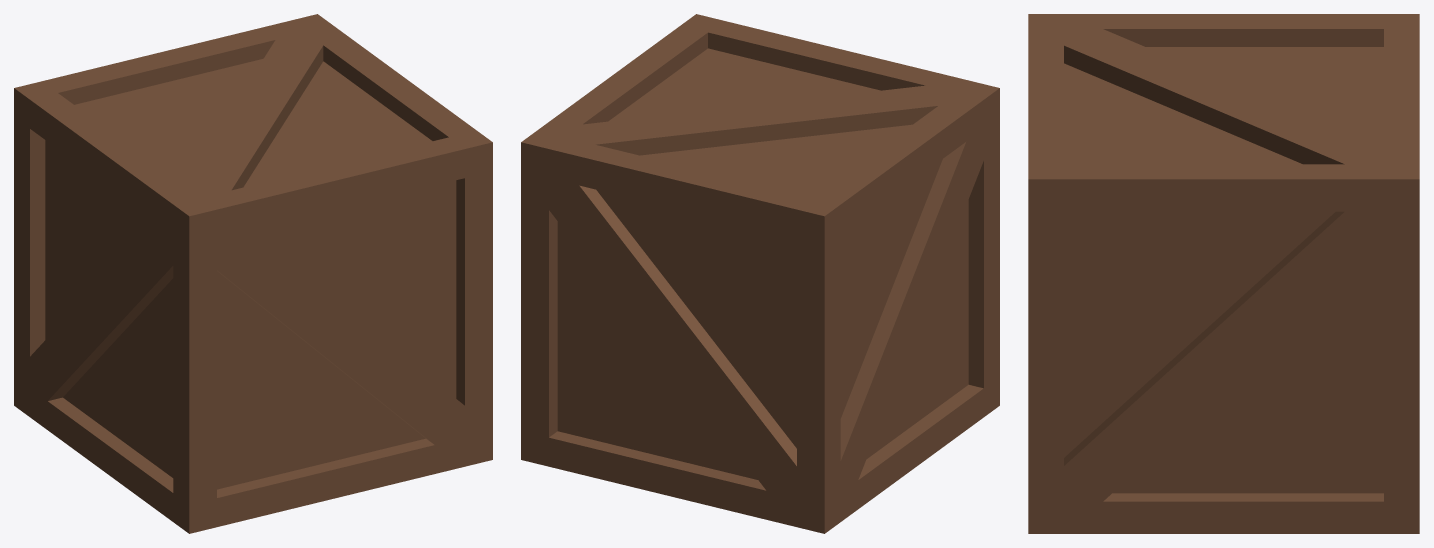
The model's file is wood2.fbx.
3 renders of one model, left to right at view 1: azimuth 30°, elevation 25°; view 2: azimuth 150°, elevation 25°; view 3: azimuth 270°, elevation 25°, orthographic. The views are drawn at different scales.
Parts seen in each view (by area): view 1: SM_WoodBox_4; view 2: SM_WoodBox_4; view 3: SM_WoodBox_4.
Boxes of the visible parts, x1,y1,x2,y2 form: SM_WoodBox_4: (14, 14, 492, 533); SM_WoodBox_4: (521, 14, 999, 533); SM_WoodBox_4: (1028, 14, 1419, 533).
Bounding box in the file's own units: 103 × 103 × 103.
